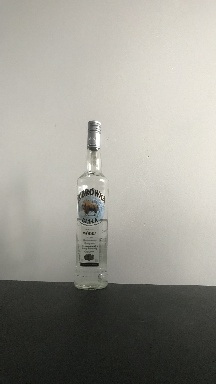butelka: (72, 117, 109, 292)
